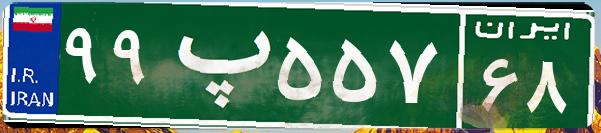5: (273, 28, 330, 110), (330, 28, 385, 110)
6: (475, 38, 525, 113)
7: (385, 28, 445, 110)
8: (525, 38, 570, 115)
9: (57, 26, 110, 107), (110, 28, 158, 105)
پ: (158, 15, 273, 115)
